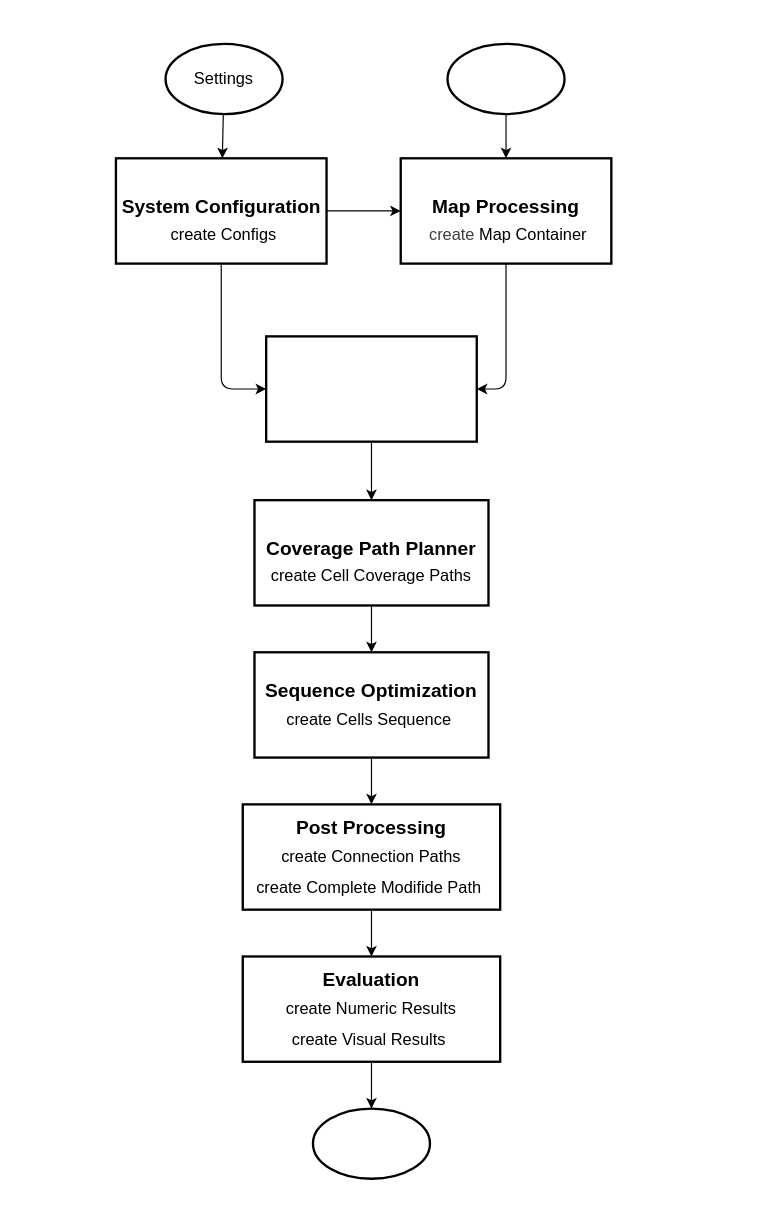
This 765x1221 diagram has some shape labels left out. The centre of each missing label's shape, as x and y in pixels:
Occupancy Map: point 505,78
Results: point 371,1143
Segmentation create Cells: point 370,388
